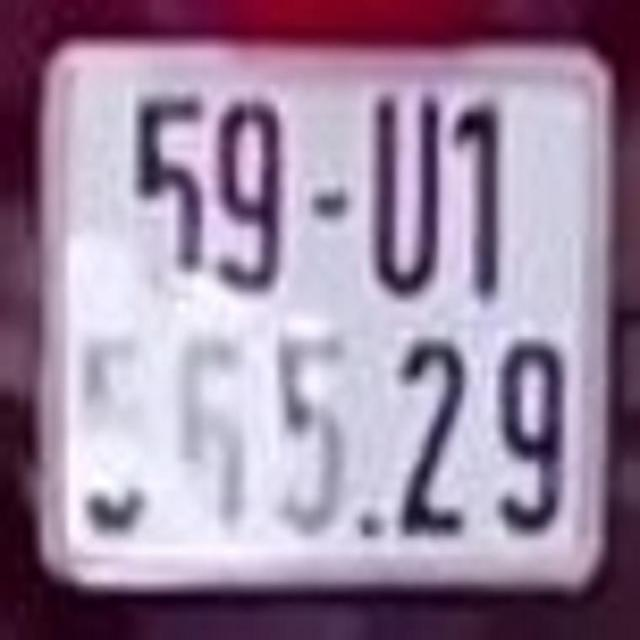1: (456, 105, 503, 305)
2: (386, 328, 468, 543)
5: (267, 330, 344, 541), (79, 335, 157, 536), (135, 84, 209, 295), (178, 333, 248, 544)
9: (216, 93, 286, 304), (498, 337, 568, 529)
U: (368, 96, 446, 300)
